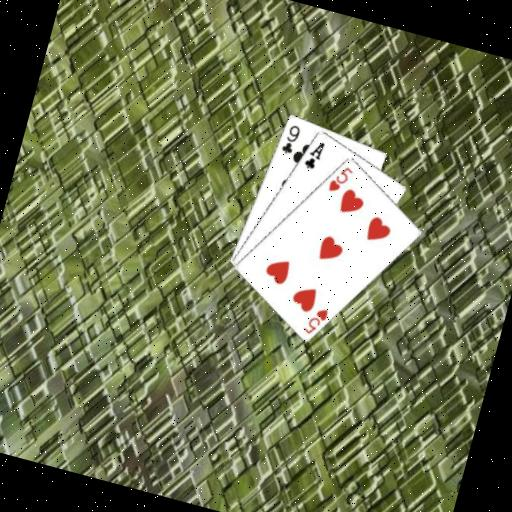5H: (324, 160, 355, 197), (299, 301, 330, 338)
9C: (277, 119, 303, 157)
AC: (299, 135, 327, 173)
